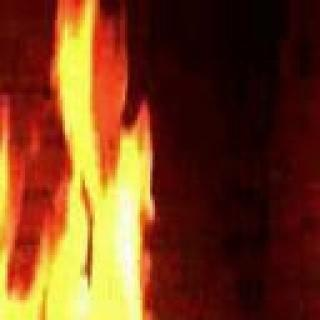fire: (0, 34, 181, 320)
